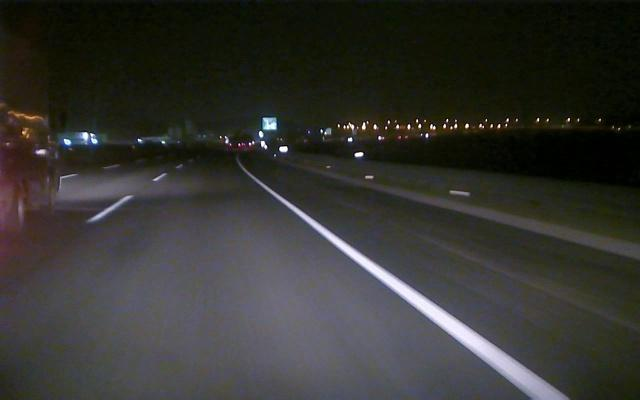lane: (248, 173, 567, 396), (83, 169, 175, 228)
